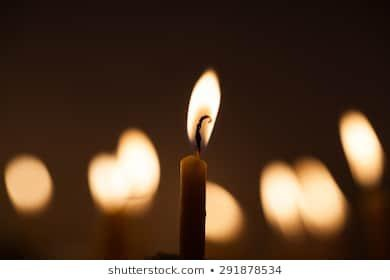fire: (87, 123, 162, 214), (333, 104, 388, 187), (185, 64, 224, 151)
